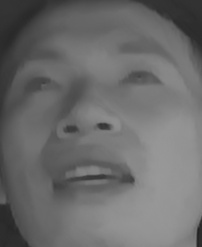eye: (116, 63, 165, 92), (18, 73, 62, 96)
mouth: (45, 148, 138, 207)
